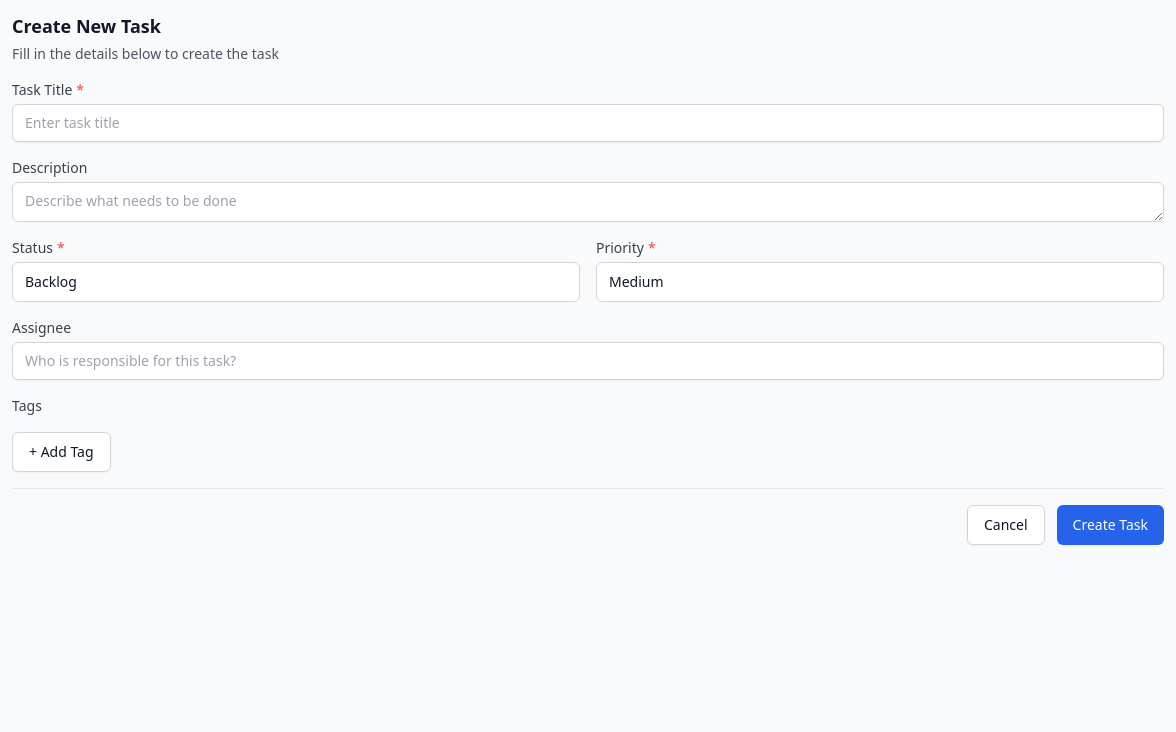
Test: TaskForm Component › adds and removes tags
# Add a tag
Step 1. Click the button "+ Add Tag" → click(61, 452), box 12,432 -> 111,472
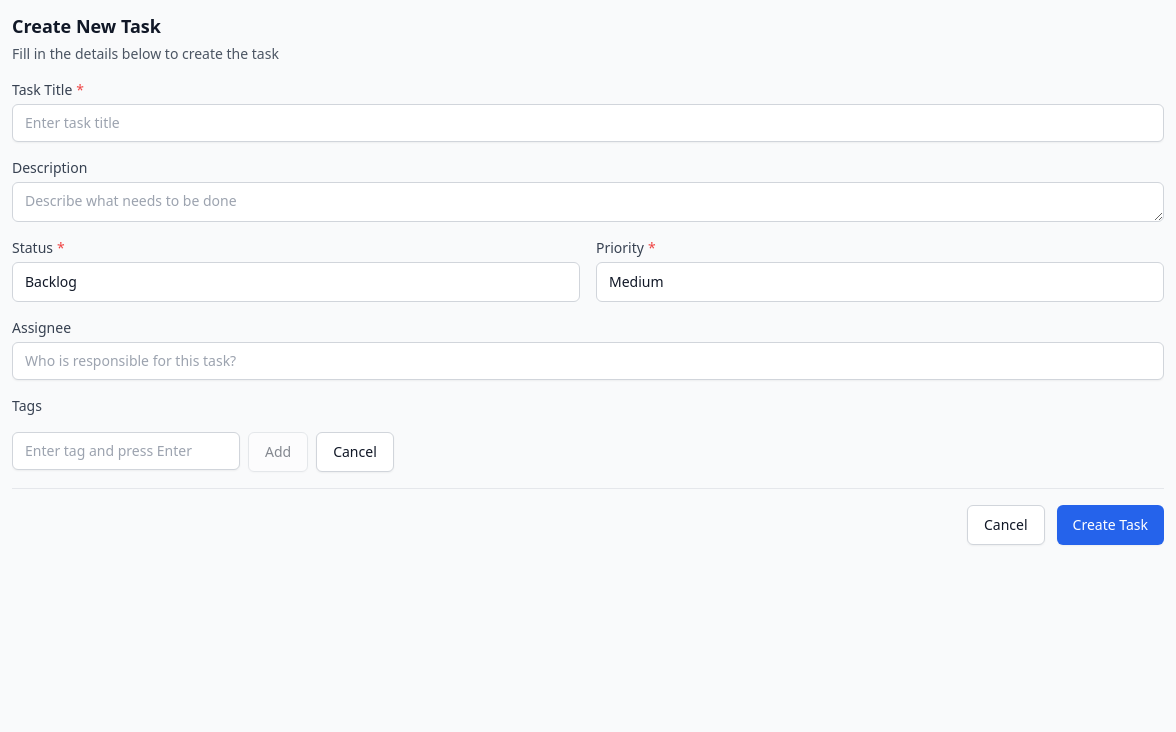
Step 2. Type "test-tag" into the field with placeholder "Enter tag and press Enter" → (126, 451), box 12,432 -> 240,470
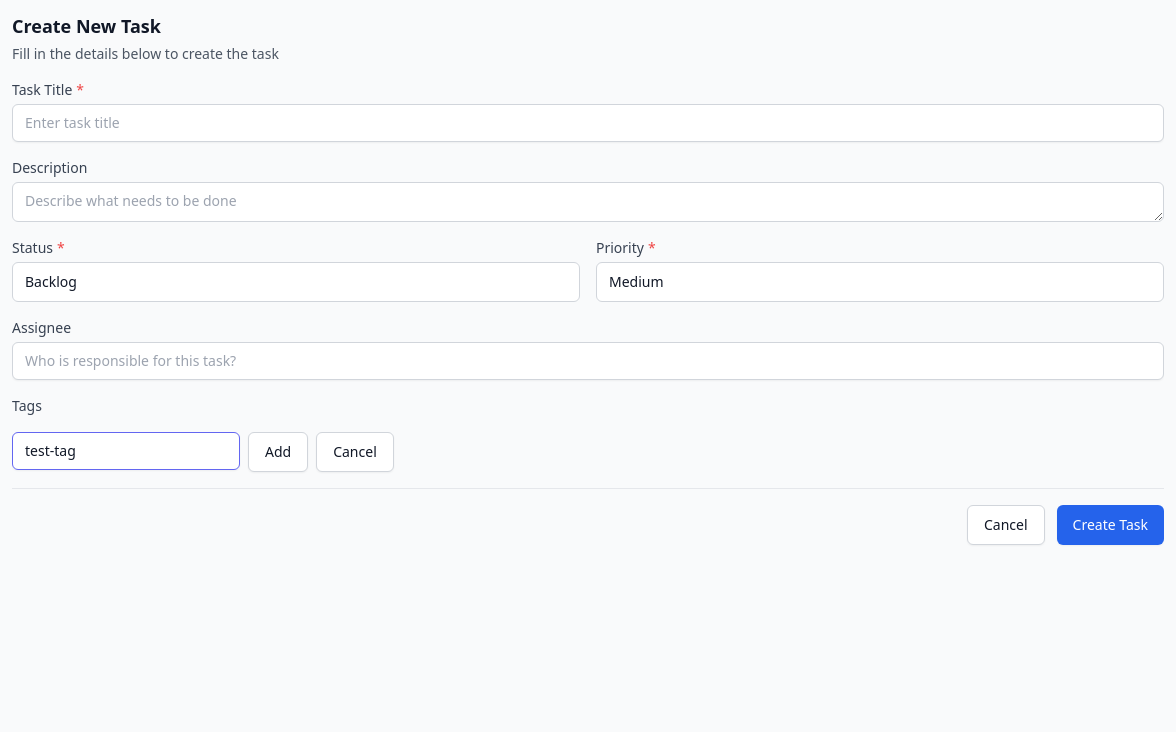
Step 3. Press Enter
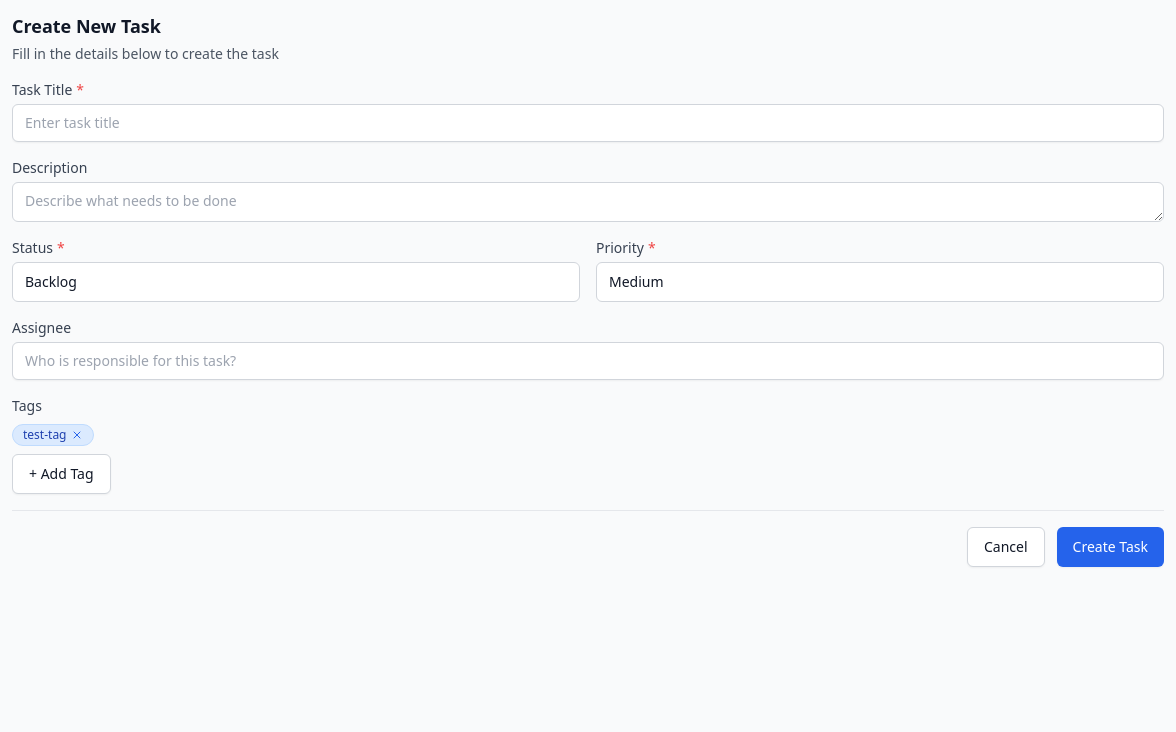
Result: the text "test-tag" is shown at 12,424 -> 94,446
# Remove the tag
Step 4. Click the button named "Remove test-tag tag" → click(76, 435), box 70,429 -> 82,441
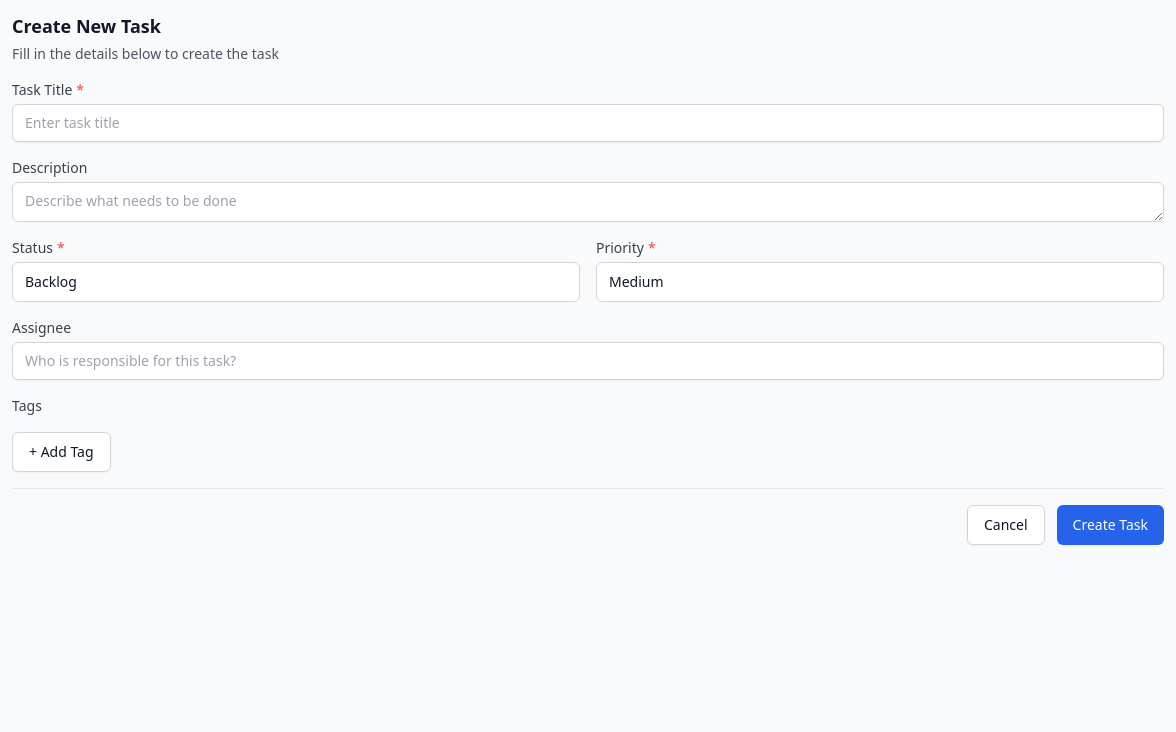
Result: the text "test-tag" is gone
